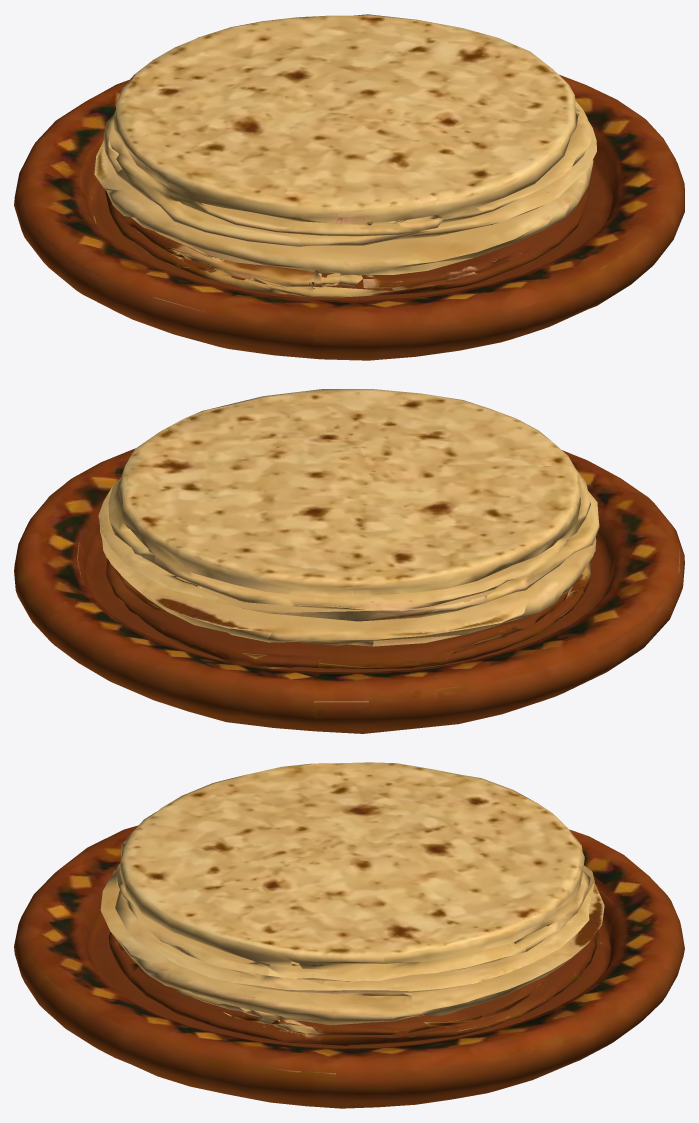
File: tortillas-harina.glb
3 views of the same model, one above another, from view 1: azimuth 30°, elevation 25°; view 2: azimuth 150°, elevation 25°; view 3: azimuth 270°, elevation 25° (orthographic).
Visible parts, largest first — view 1: Mesh_0; view 2: Mesh_0; view 3: Mesh_0.
Part boxes in pixels (x1=…): Mesh_0: x1=14, y1=14, x2=684, y2=360; Mesh_0: x1=14, y1=389, x2=684, y2=733; Mesh_0: x1=14, y1=762, x2=684, y2=1108.
Bounding box in the file's own units: 1.89 × 0.4623 × 1.89.
1 material, 1 textured.
